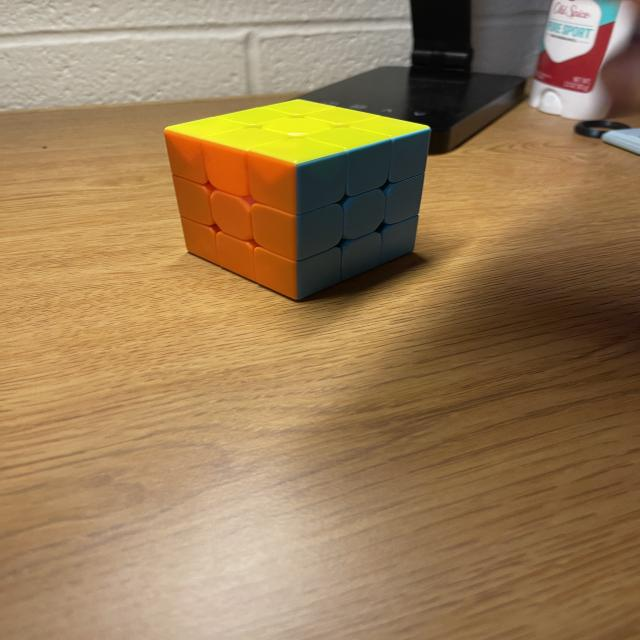Rubiks Cube: (163, 99, 427, 301)
